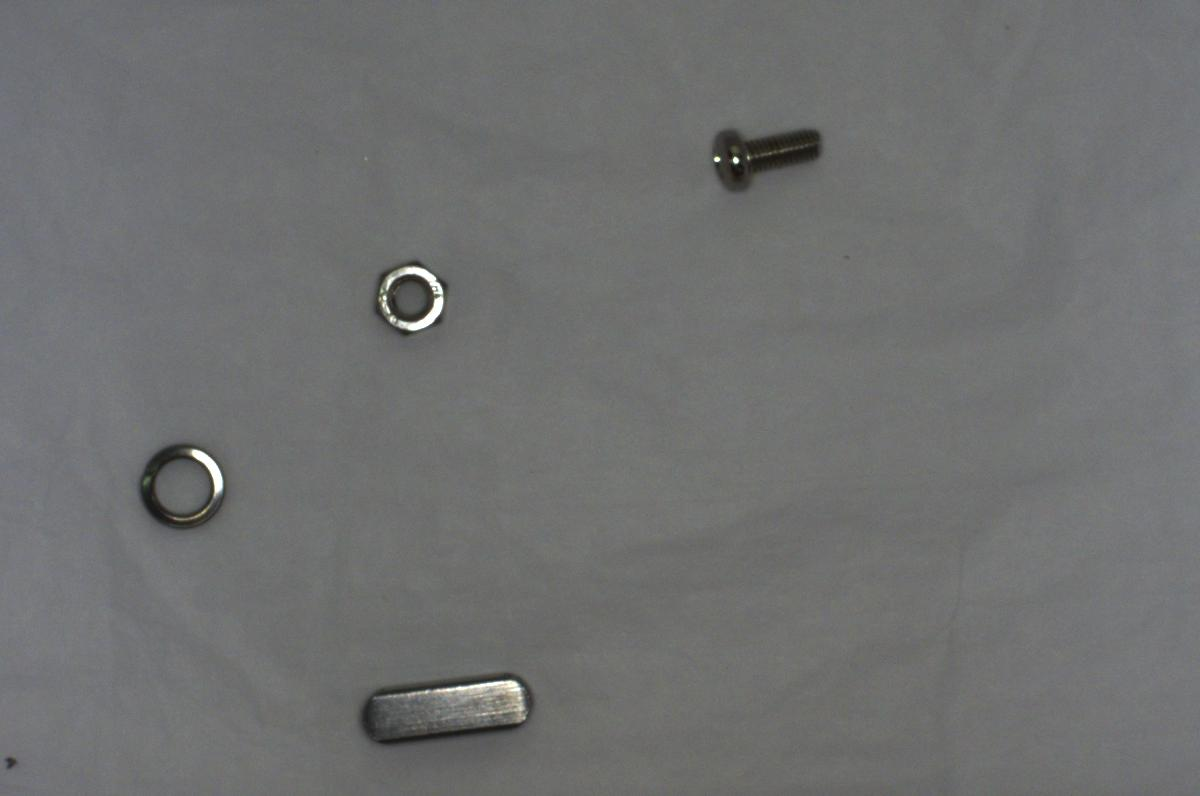Hexagon nut: (362, 250, 454, 340)
Keybar: (353, 660, 538, 752)
Round head screw: (705, 114, 835, 202)
Spring washer: (130, 433, 228, 532)
